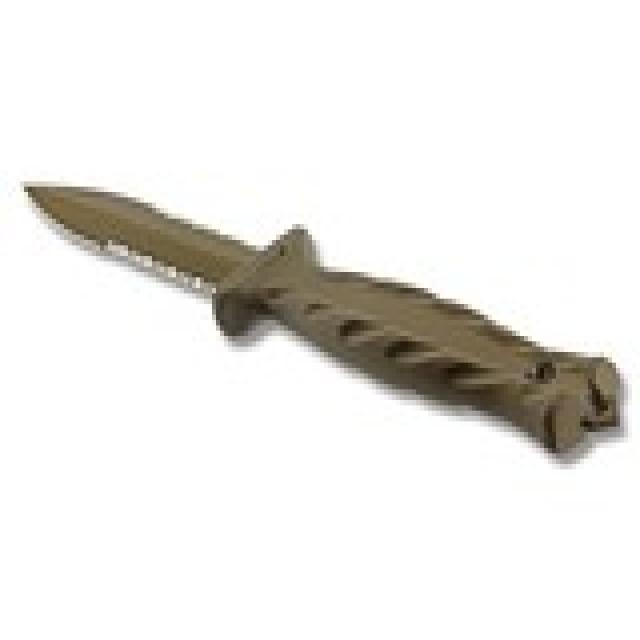Knife: (18, 173, 628, 457)
